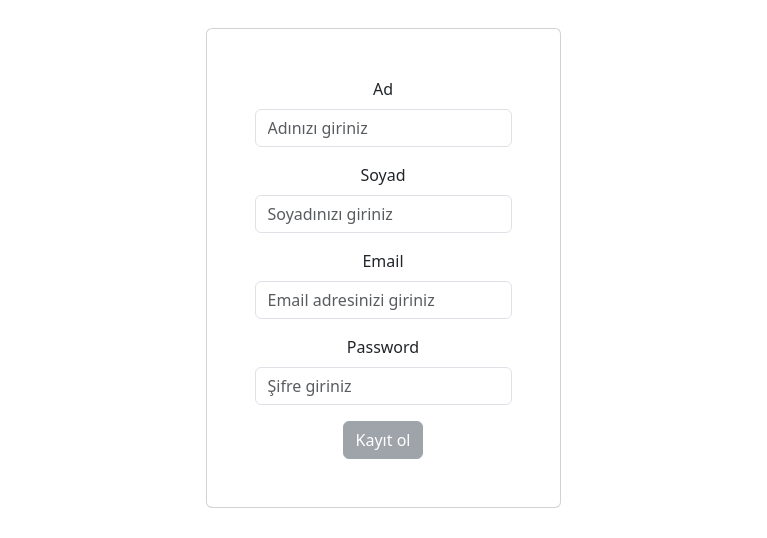
it: Register Page › Error Messages › password input throws error for 1234
In the password field with test id "password-input": (384,386) [255, 367, 512, 405], type "1234"
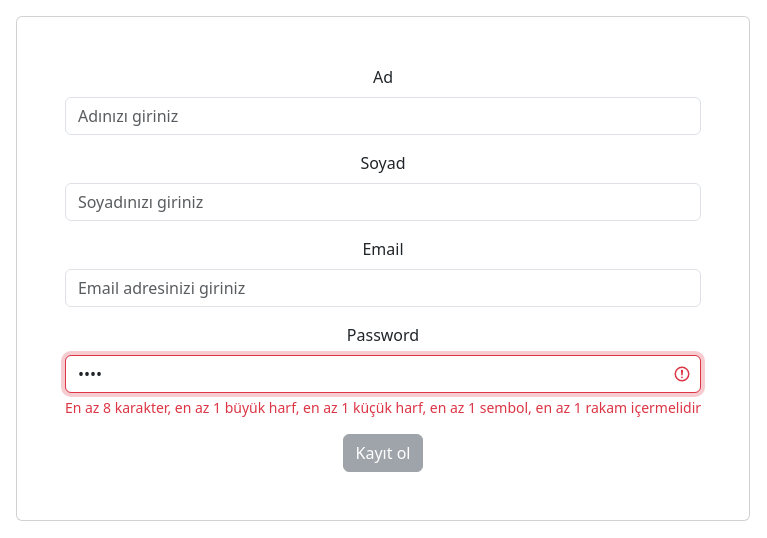
Result: the text "En az 8 karakter, en az 1 büyük harf, en az 1 küçük harf, en az 1 sembol, en az 1 rakam içermelidir" is shown at [65, 398, 701, 417]
